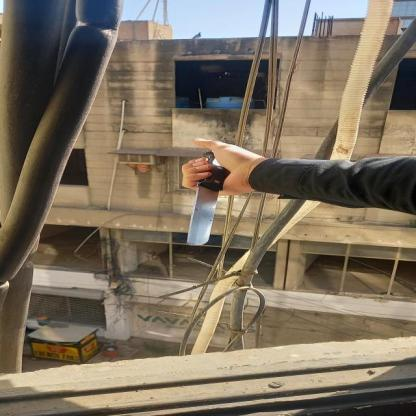Knife: (186, 150, 229, 245)
